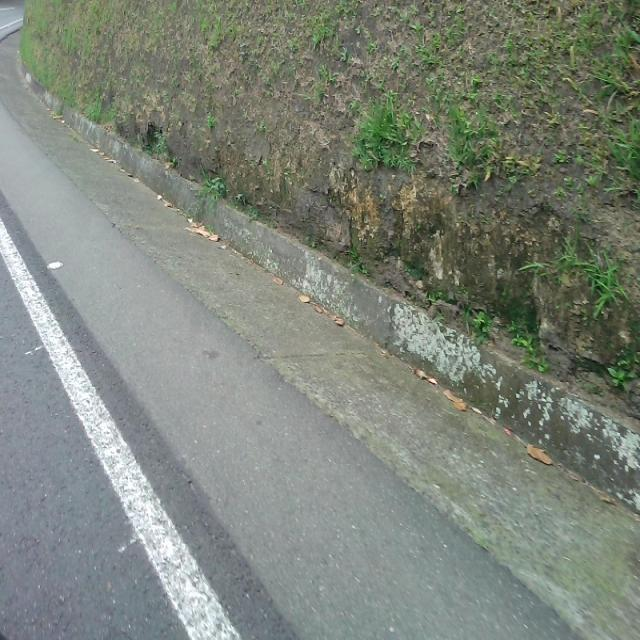DITCH: (1, 21, 638, 638)
